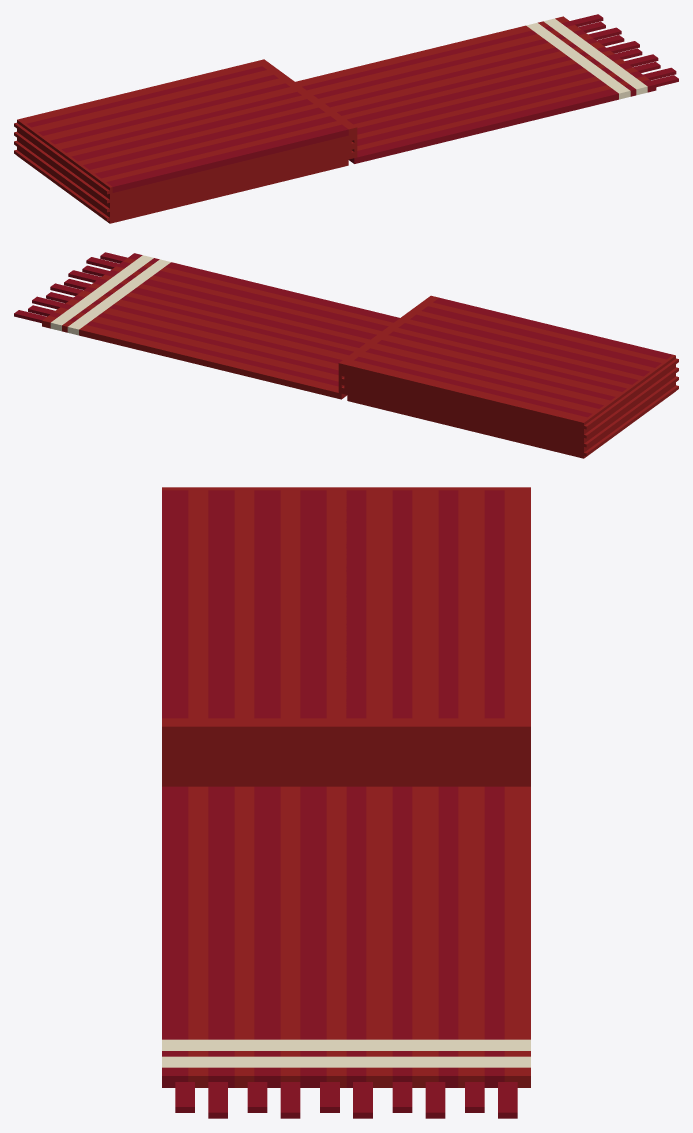
File: scarf_long.glb
The picture shows the model from 3 angles, top to bottom: view 1: azimuth 30°, elevation 25°; view 2: azimuth 150°, elevation 25°; view 3: azimuth 270°, elevation 25°; orthographic projection. The views are drawn at different scales.
Visible parts, largest first — view 1: scarf_long:compound; view 2: scarf_long:compound; view 3: scarf_long:compound.
Boxes of the visible parts, x1=… form: scarf_long:compound: x1=14, y1=14, x2=678, y2=223; scarf_long:compound: x1=14, y1=252, x2=678, y2=458; scarf_long:compound: x1=162, y1=487, x2=530, y2=1118.
Bounding box in the file's own units: 0.808 × 0.048 × 0.224.
